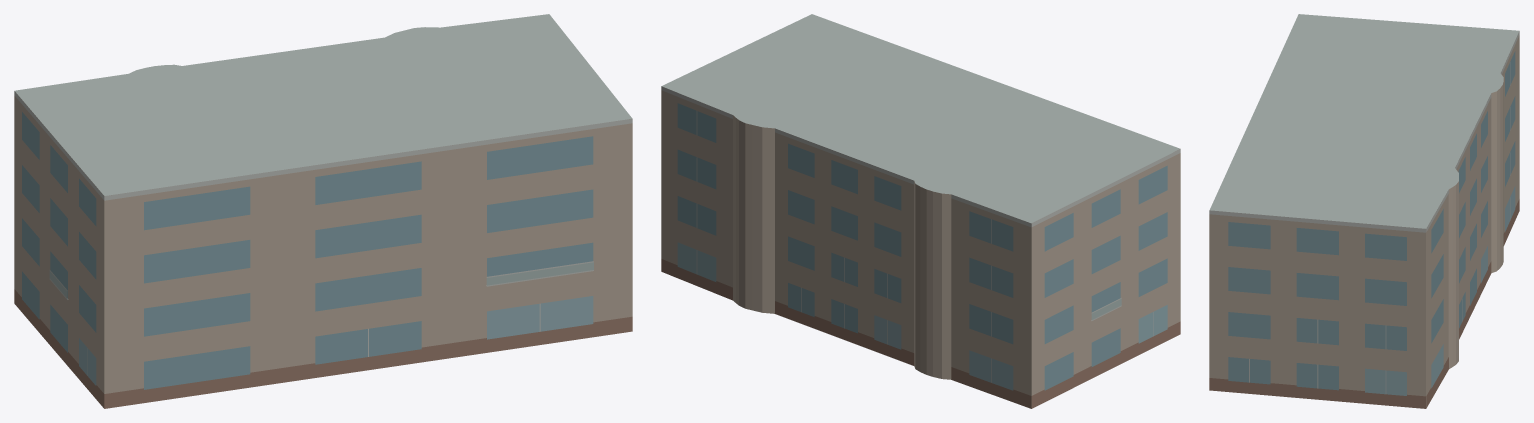
File: survey-upis-32958045.glb
3 renders of one model, left to right at view 1: azimuth 30°, elevation 25°; view 2: azimuth 150°, elevation 25°; view 3: azimuth 270°, elevation 25°, orthographic. The views are drawn at different scales.
Visible parts, largest first — view 1: survey-upis-32958045.tmp; view 2: survey-upis-32958045.tmp; view 3: survey-upis-32958045.tmp.
Part boxes in pixels (bbox=[...]): survey-upis-32958045.tmp: bbox=[14, 14, 632, 408]; survey-upis-32958045.tmp: bbox=[661, 14, 1180, 408]; survey-upis-32958045.tmp: bbox=[1209, 14, 1519, 408].
Size of the model in its own units: 28.92 by 11.3 by 17.65.
